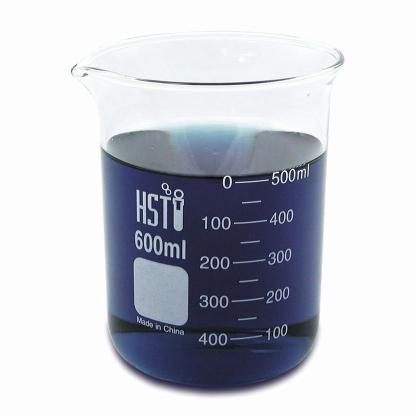Beaker: (59, 26, 371, 414)
